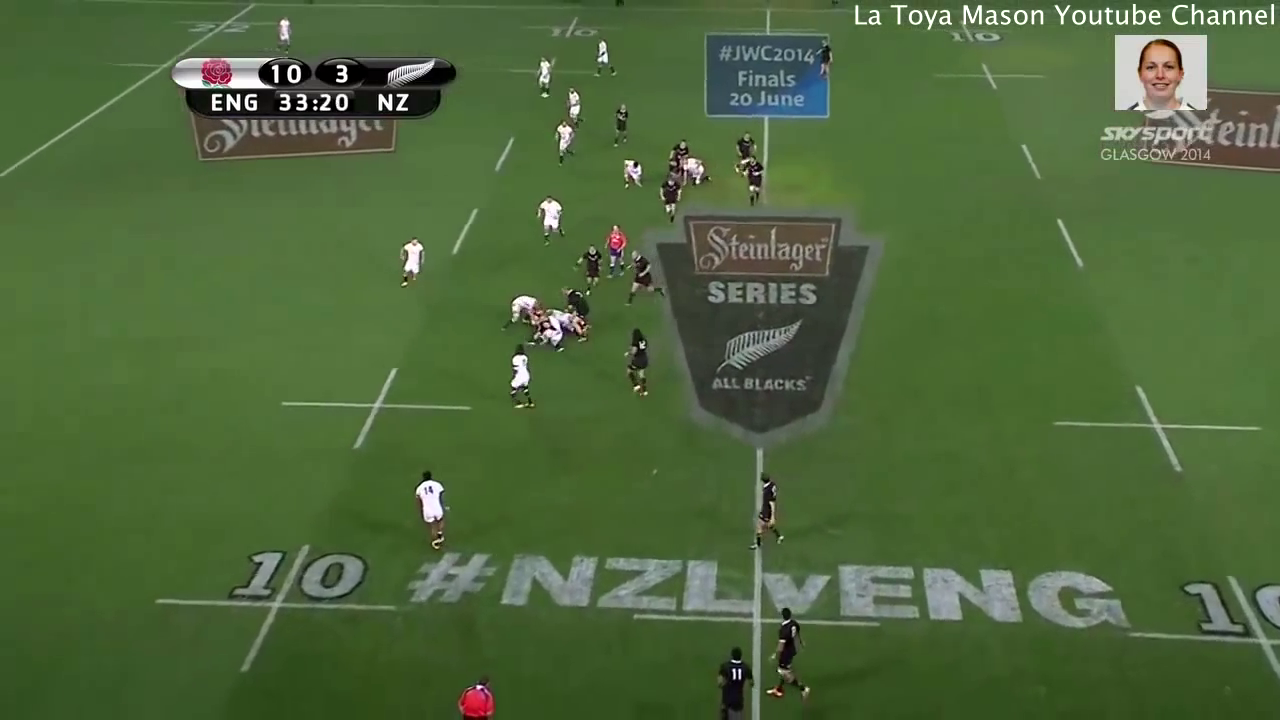10_metre: (145, 539, 400, 680), (1047, 379, 1264, 476), (1121, 568, 1280, 688), (272, 363, 474, 452), (503, 54, 602, 90), (930, 63, 1049, 92), (521, 15, 625, 41), (919, 20, 1014, 46)
player: (765, 602, 817, 700), (407, 467, 453, 551), (749, 469, 789, 558), (713, 641, 756, 720), (623, 249, 668, 307), (393, 233, 433, 291), (505, 344, 539, 411), (623, 327, 655, 398), (572, 244, 604, 298), (534, 196, 566, 249), (500, 294, 543, 333), (603, 223, 628, 281), (742, 157, 766, 207), (551, 118, 576, 165), (559, 285, 591, 320), (534, 54, 556, 104), (610, 97, 631, 149), (812, 36, 837, 79), (733, 129, 756, 175), (563, 86, 587, 130), (657, 176, 679, 224), (674, 158, 715, 183), (593, 37, 618, 77), (619, 154, 643, 188), (670, 137, 693, 158)
ruck: (505, 291, 598, 353)
